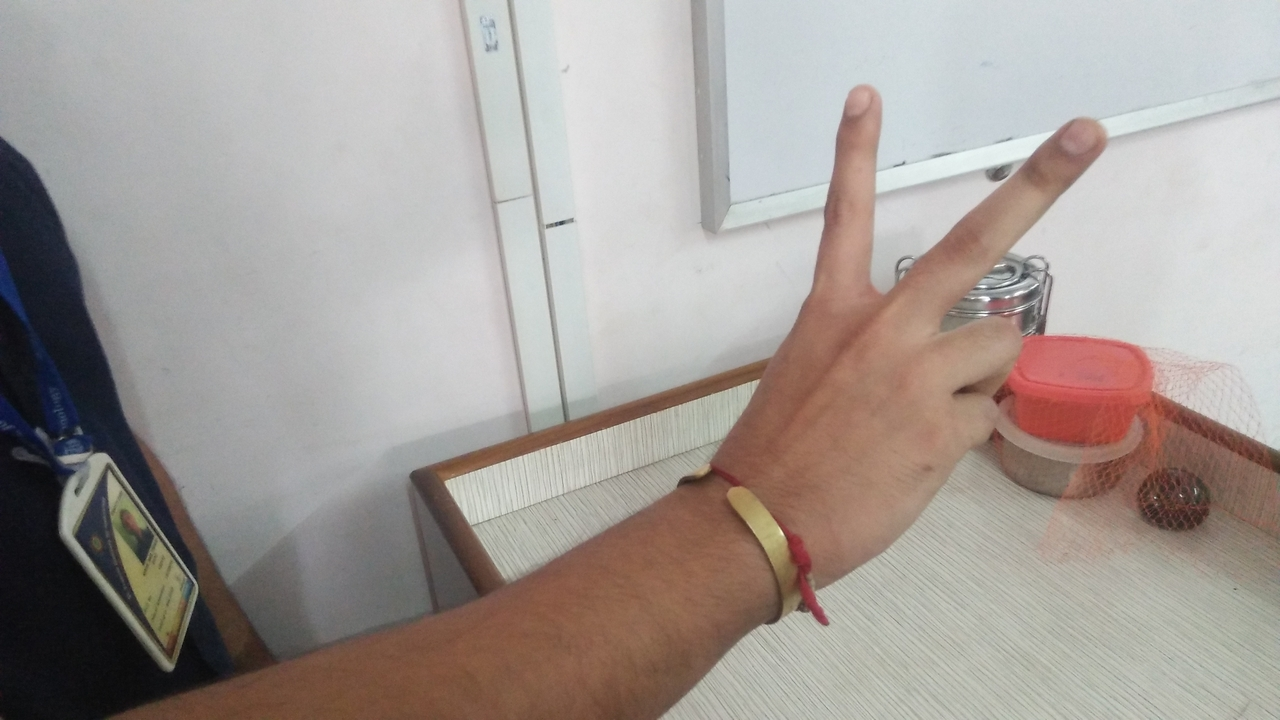fingertip: (1046, 110, 1126, 162), (838, 80, 892, 124)
